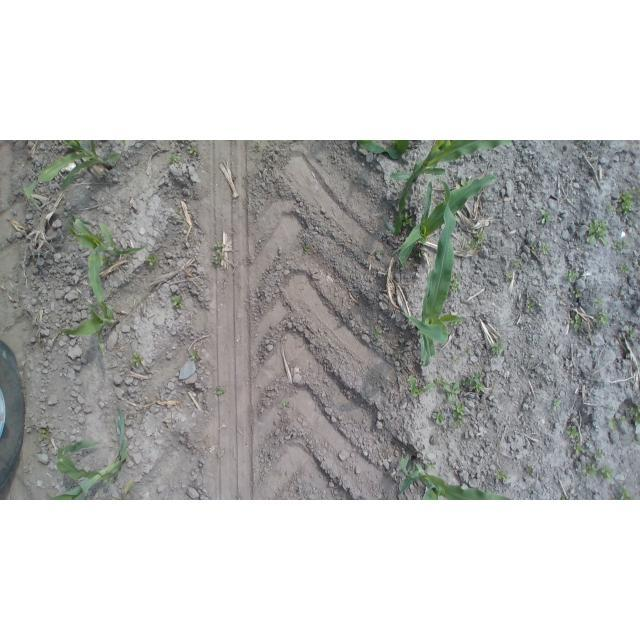Maize: (399, 182, 471, 367), (395, 171, 502, 270), (41, 404, 137, 500), (390, 141, 517, 212), (18, 140, 122, 213), (65, 215, 148, 301), (396, 453, 518, 500), (64, 299, 125, 360), (355, 140, 424, 156), (403, 374, 441, 399)
Weeds: (585, 218, 610, 247), (618, 189, 640, 216), (464, 370, 487, 394), (451, 402, 470, 428), (211, 239, 227, 267), (626, 399, 640, 426), (444, 382, 462, 401), (491, 468, 512, 483), (449, 272, 463, 294), (592, 311, 610, 328), (432, 411, 449, 428), (171, 291, 185, 311), (38, 426, 53, 444), (607, 416, 627, 428), (610, 238, 628, 251), (463, 239, 479, 253), (573, 442, 586, 459), (552, 397, 565, 414), (567, 269, 581, 284), (538, 209, 552, 224), (618, 262, 633, 276), (491, 342, 504, 358), (147, 254, 161, 268), (602, 466, 616, 480), (583, 463, 597, 477), (567, 426, 581, 440), (570, 315, 584, 329), (64, 211, 77, 226), (402, 213, 415, 228), (302, 240, 314, 256), (371, 326, 384, 340), (167, 154, 181, 167), (131, 353, 145, 366), (416, 247, 430, 260), (525, 300, 538, 313), (425, 460, 439, 472), (188, 143, 200, 157), (619, 486, 631, 500), (593, 448, 607, 460), (474, 231, 486, 244), (216, 386, 228, 398), (280, 399, 294, 409), (396, 347, 407, 359), (573, 287, 584, 299), (502, 270, 514, 281), (512, 259, 522, 271), (462, 348, 474, 357), (435, 376, 444, 388), (190, 349, 199, 361), (628, 329, 636, 342), (374, 249, 387, 257), (607, 204, 617, 214), (542, 243, 550, 255), (451, 356, 461, 365), (530, 241, 539, 251), (594, 297, 602, 308), (253, 141, 262, 150), (529, 484, 539, 492), (524, 465, 534, 473), (450, 320, 458, 329)
